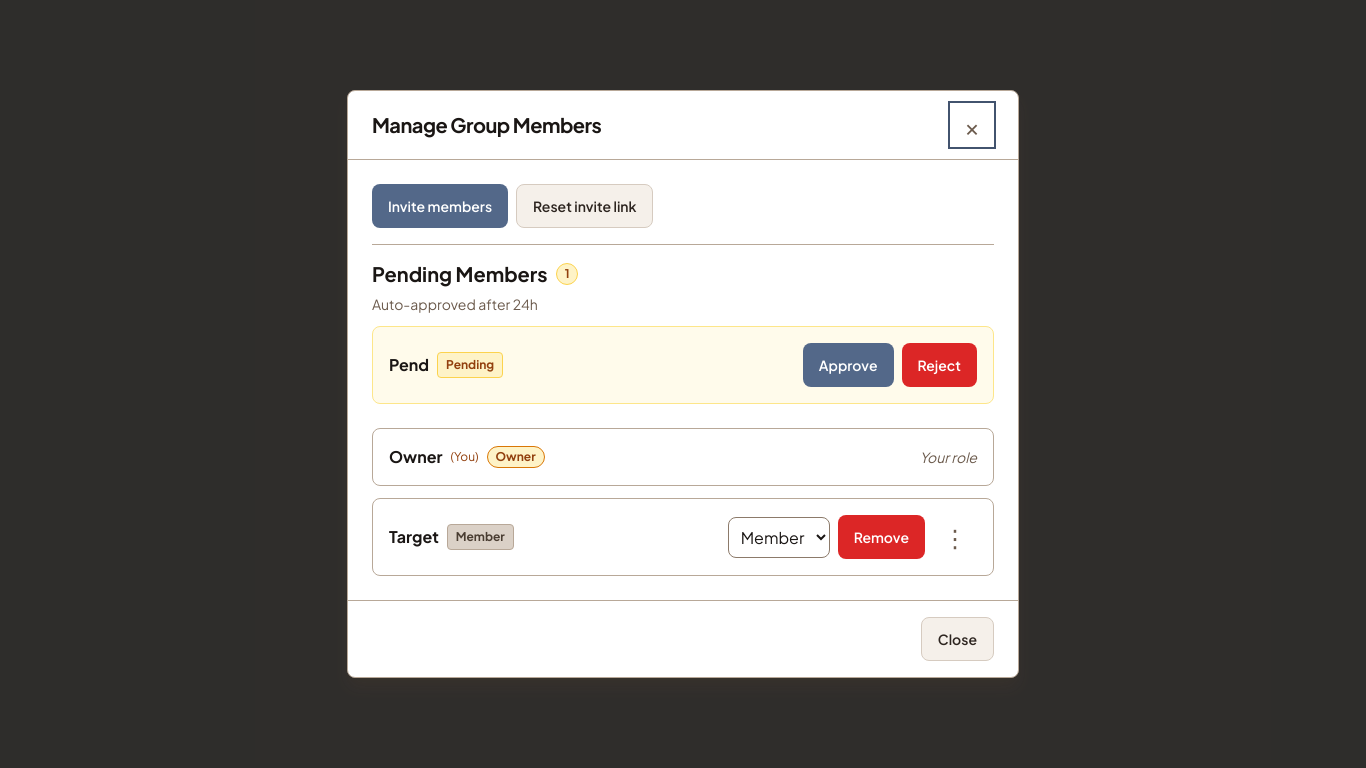
Test: ManageMembers Req 11 gates — blocking semantics (no API call until confirmed) › reject pending member: dialog copy matches UI-SPEC 11.2 as corrected by FND-88-12-02
Expected: the dialog "Manage Group Members" is shown, [347,90,1019,678]
What coordinates should you click on to do the following:
click the button "Reject"
I would click on:
 (939, 365)
Its box is [902,343,977,387].
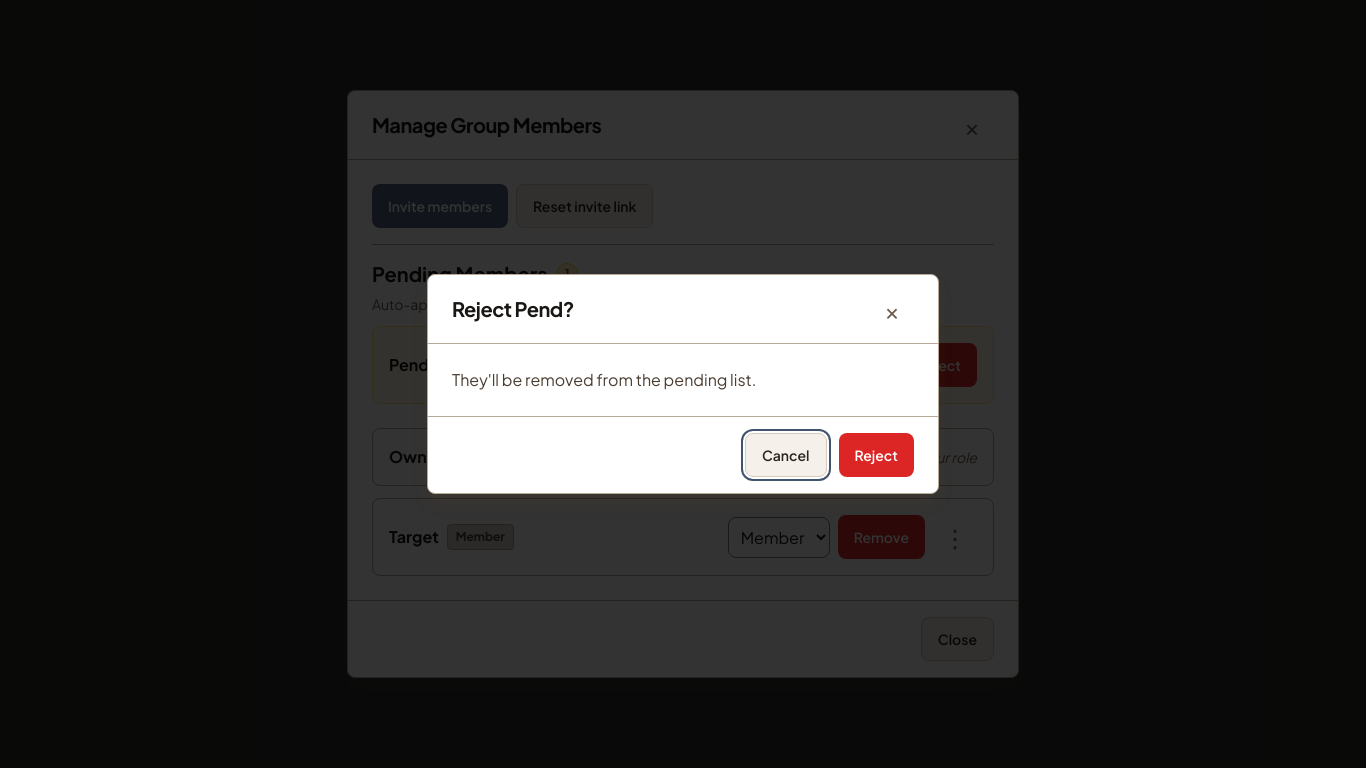
Expected: the dialog "Reject Pend?" is shown, [427,274,939,494]
Expected: the text "They'll be removed from the pending list." is shown, [452,369,756,390]
